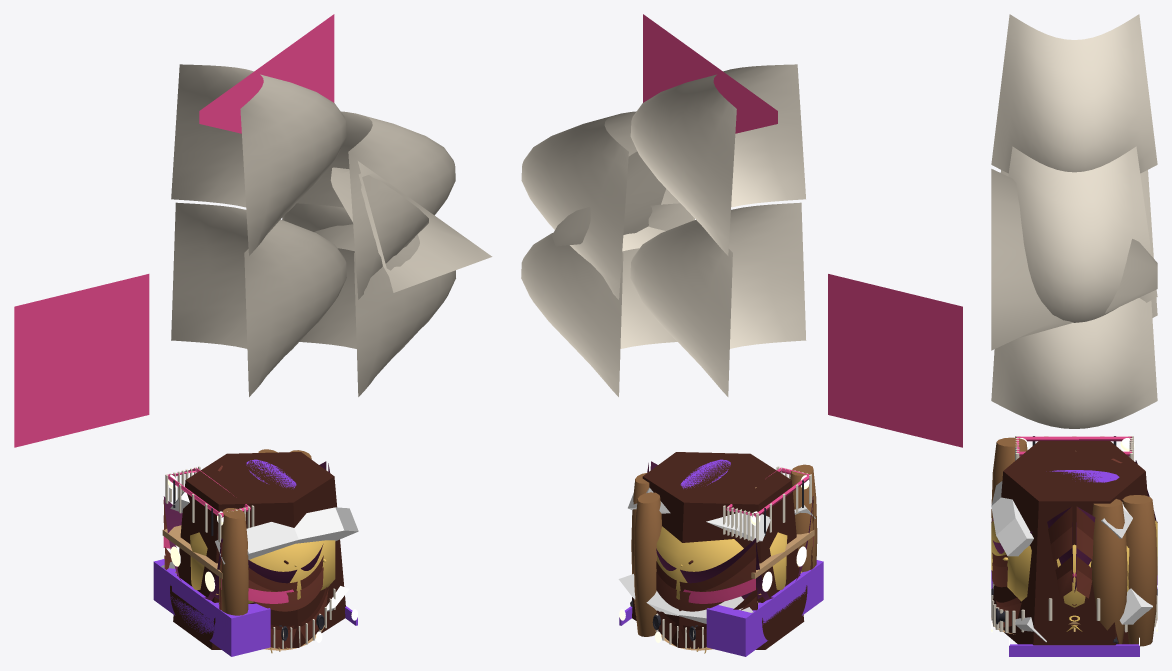
The model's file is navire.glb.
The picture shows the model from 3 angles, left to right: view 1: azimuth 30°, elevation 25°; view 2: azimuth 150°, elevation 25°; view 3: azimuth 270°, elevation 25°; orthographic projection. The views are drawn at different scales.
Visible parts, largest first — view 1: voile_grande, navire_corps, voile_hune, drapeau, mat_drapeau, voile_perroquet, voile_misaine, flamme, voile_foc; view 2: navire_corps, voile_grande, voile_hune, drapeau, mat_drapeau, voile_perroquet, voile_misaine, flamme, voile_foc; view 3: voile_hune, navire_corps, voile_perroquet, mat_drapeau, voile_misaine, voile_foc, voile_grande.
Part boxes in pixels (x1,y1,x2,y2): voile_grande: (171, 202, 346, 396); navire_corps: (153, 449, 358, 656); voile_hune: (171, 64, 346, 255); drapeau: (14, 274, 149, 447); mat_drapeau: (173, 452, 345, 649); voile_perroquet: (282, 111, 455, 299); voile_misaine: (284, 203, 455, 396); flamme: (199, 14, 334, 133); voile_foc: (330, 161, 492, 292); navire_corps: (618, 459, 823, 656); voile_grande: (630, 202, 806, 396); voile_hune: (630, 64, 805, 255); drapeau: (828, 274, 962, 447); mat_drapeau: (631, 452, 804, 649); voile_perroquet: (521, 111, 694, 299); voile_misaine: (521, 203, 692, 396); flamme: (643, 14, 777, 133); voile_foc: (552, 151, 665, 246); voile_hune: (991, 14, 1157, 173); navire_corps: (991, 436, 1157, 656); voile_perroquet: (1008, 146, 1157, 322); mat_drapeau: (991, 441, 1157, 645); voile_misaine: (991, 298, 1157, 428); voile_foc: (991, 169, 1157, 350); voile_grande: (1000, 170, 1157, 317).
Bounding box in the file's own units: 6.52 × 8.32 × 2.
